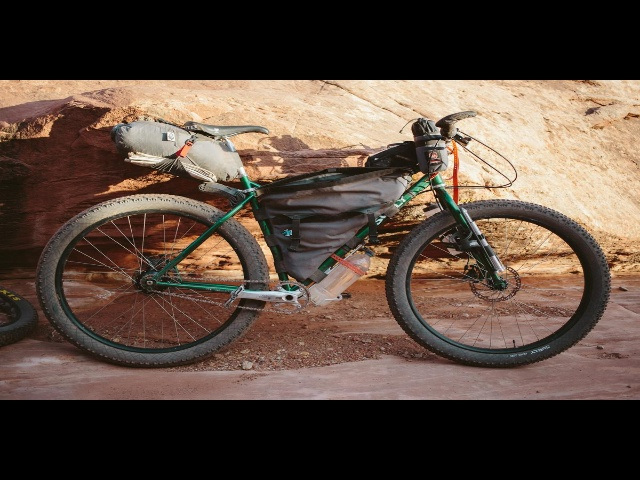bike: (30, 108, 614, 395)
